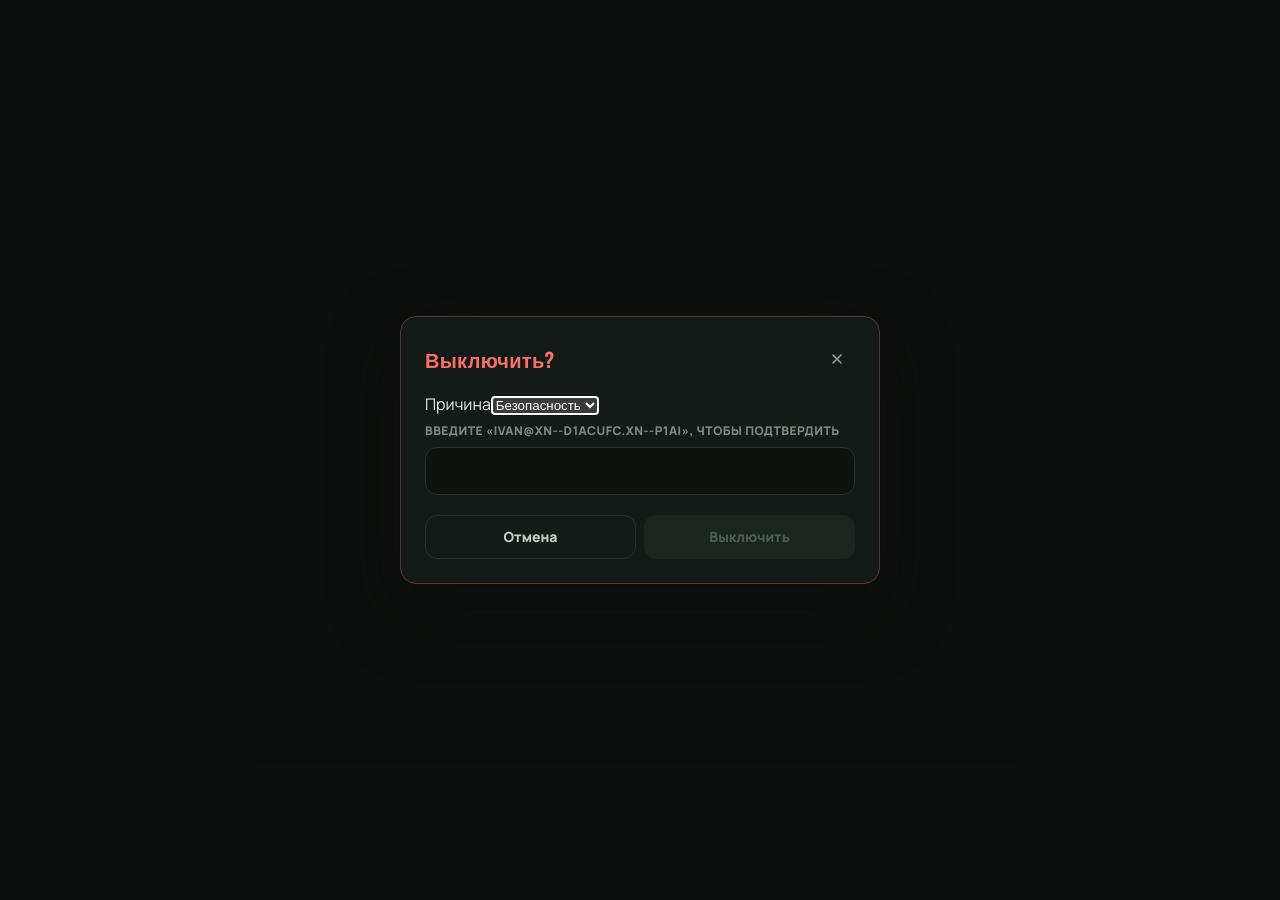
Test: children — над вводом слова; error — текст по коду внутри диалога, набранное цело
Type "ivan@xn--d1acufc.xn--p1ai" into the field labelled "Введите «ivan@xn--d1acufc.xn--p1ai», чтобы подтвердить" at {"x": 640, "y": 471}, box [425, 447, 855, 495]
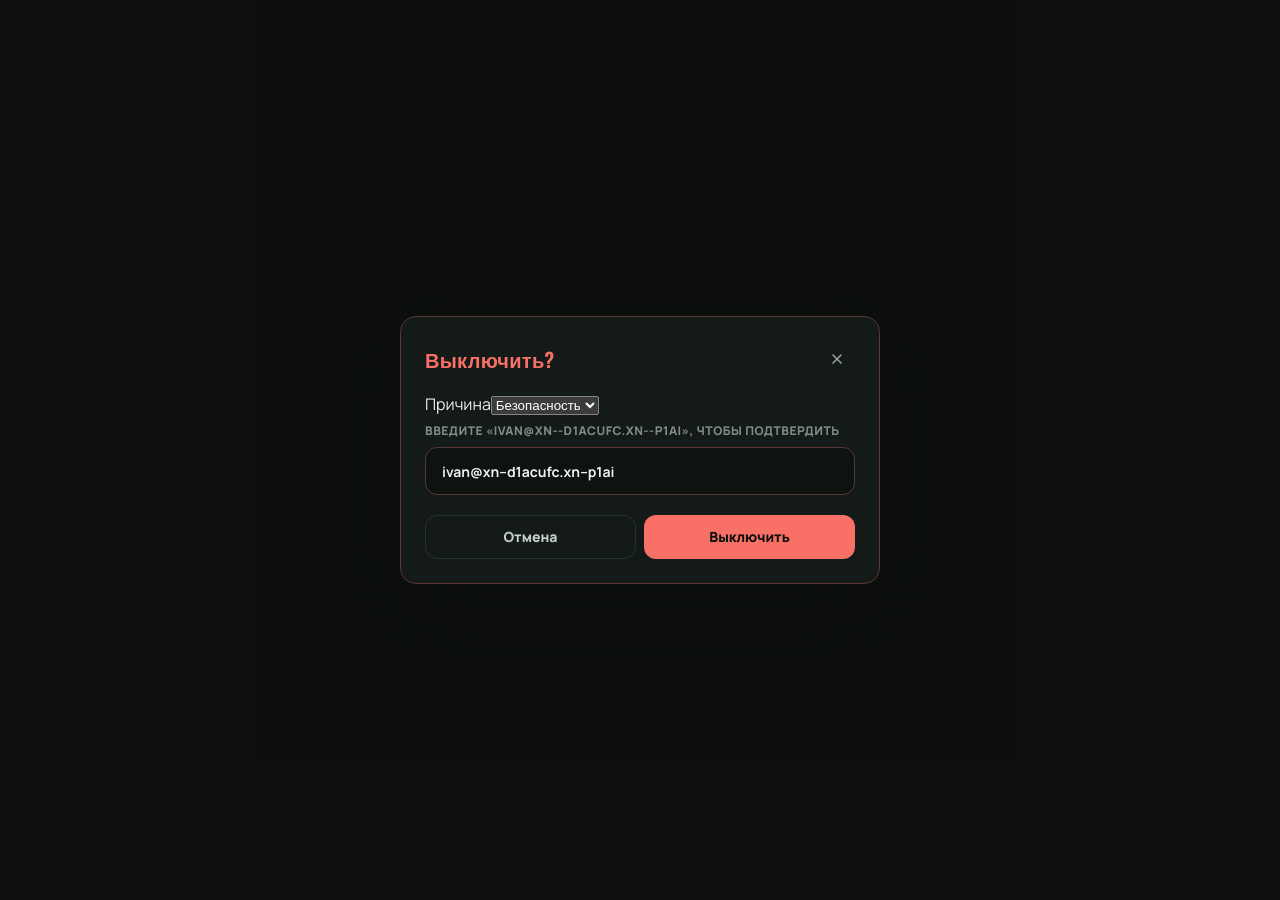
Click the button "Выключить" at {"x": 750, "y": 537}, box [644, 515, 855, 559]
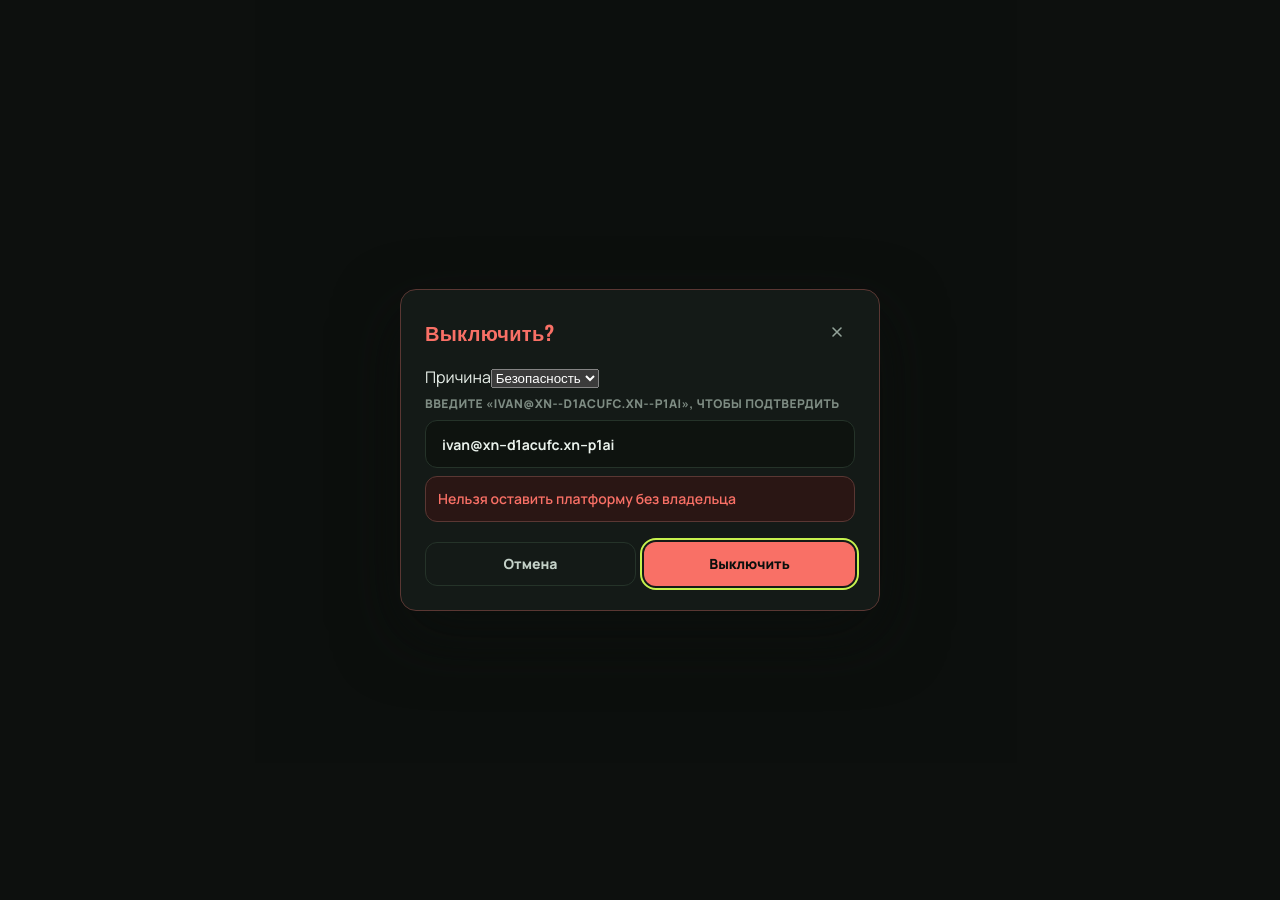
expect the message reads "Нельзя оставить платформу без владельца": met, box [438, 489, 736, 508]
